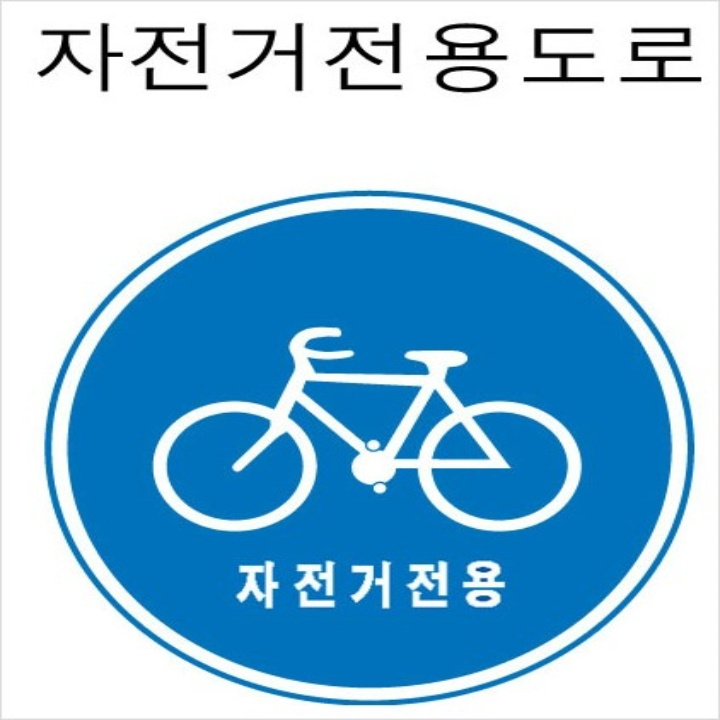bicycle: (149, 323, 585, 539)
